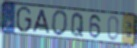0: (107, 15, 120, 42)
6: (89, 14, 102, 40)
A: (32, 8, 51, 34)
G: (15, 6, 33, 34)
O: (50, 9, 69, 38)
Q: (70, 12, 85, 38)
